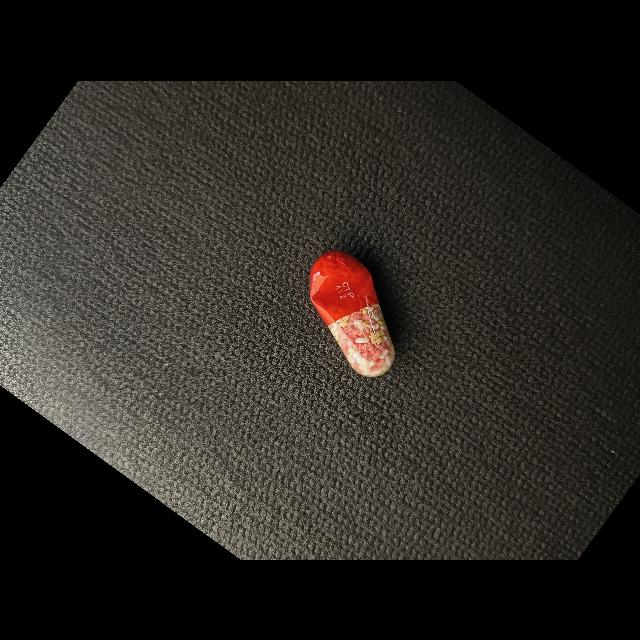Defective Capsule: (310, 250, 395, 377)
